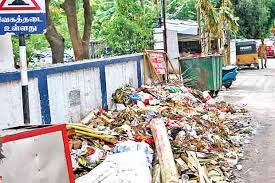garbage: (98, 104, 248, 183), (118, 86, 240, 181), (71, 117, 240, 167)
